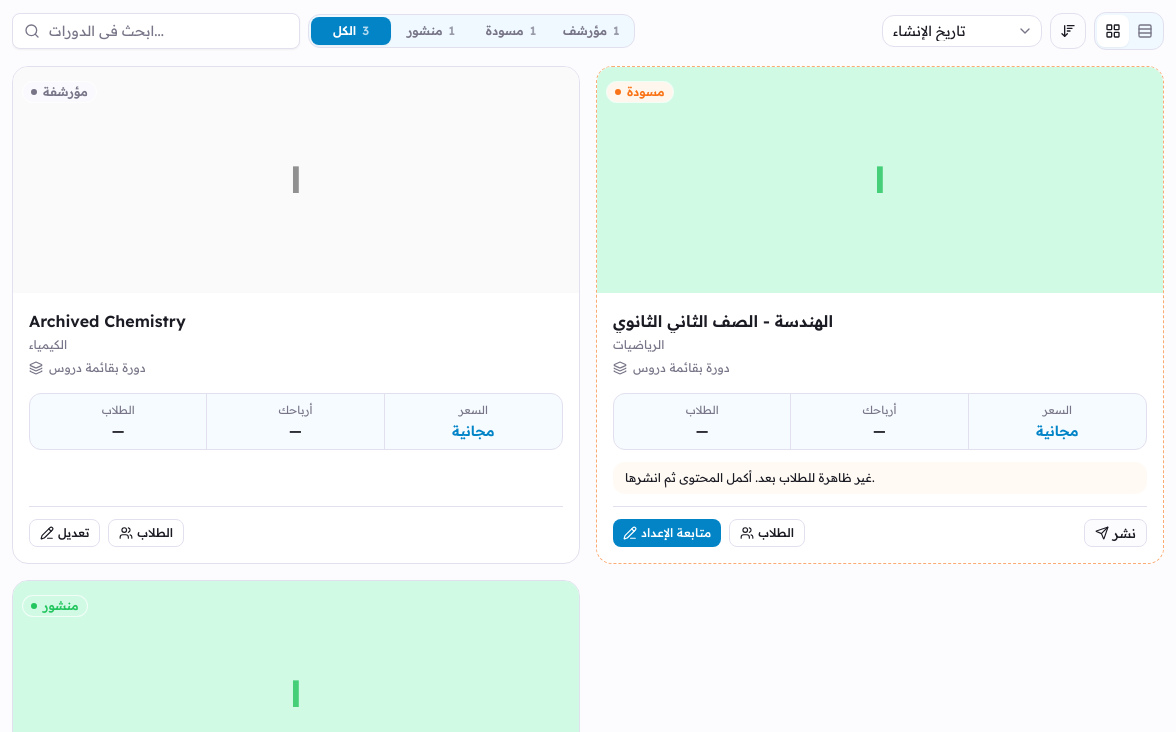
Test: CourseList › success state › published filter excludes archived courses
The width and height of the screenshot is (1176, 732).
What coordinates should you click on to do the following:
click the button "منشور 1"
I would click on:
 (431, 31)
Its box is left=391, top=17, right=471, bottom=45.
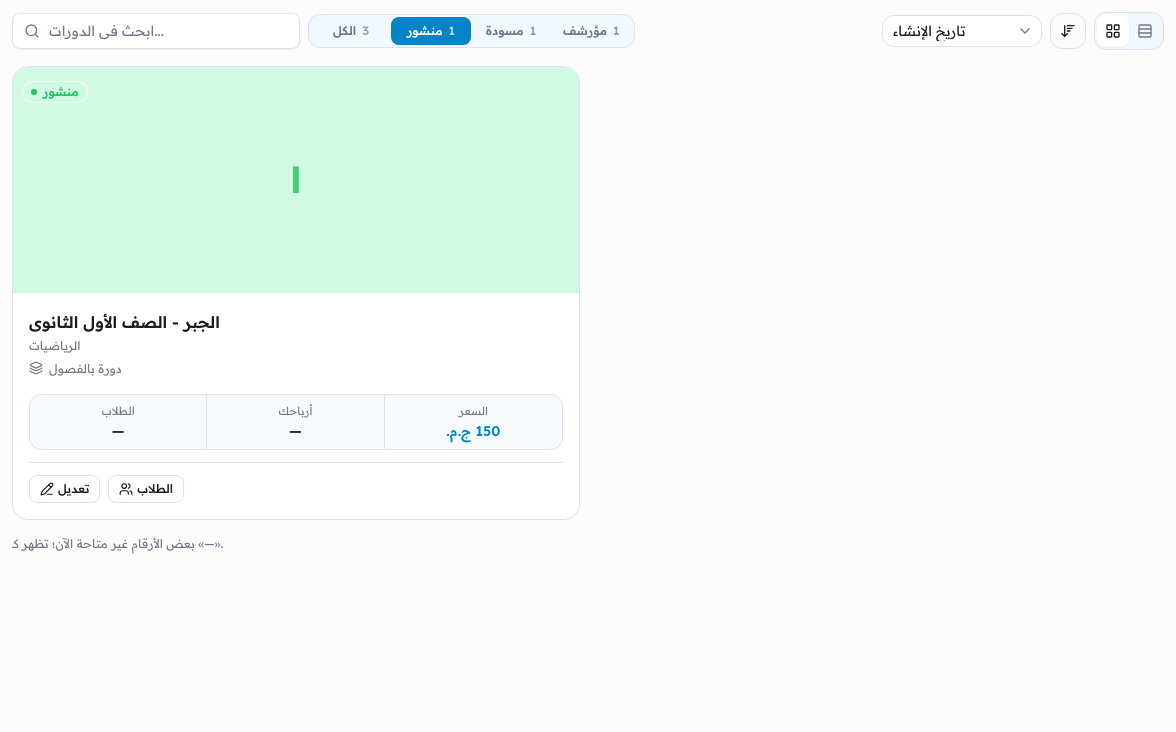
expect the link "الجبر - الصف الأول الثانوي" is shown: met, box left=29, top=311, right=220, bottom=331
expect the link "Archived Chemistry" is gone: met
